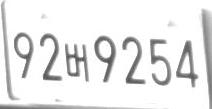2: (121, 35, 146, 84), (39, 32, 62, 80)
4: (175, 39, 198, 88)
5: (149, 38, 171, 86)
9: (93, 35, 117, 82), (13, 31, 34, 78)
버: (64, 42, 90, 82)
